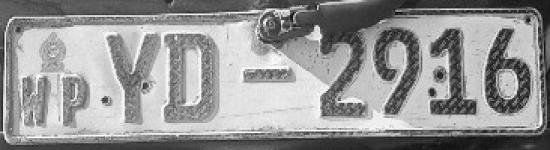-: (230, 62, 297, 89)
1: (424, 20, 482, 124)
2: (315, 23, 370, 122)
6: (482, 20, 536, 120)
9: (371, 21, 425, 123)
D: (161, 28, 222, 128)
P: (52, 70, 90, 132)
W: (17, 72, 51, 131)
Y: (100, 29, 160, 128)
